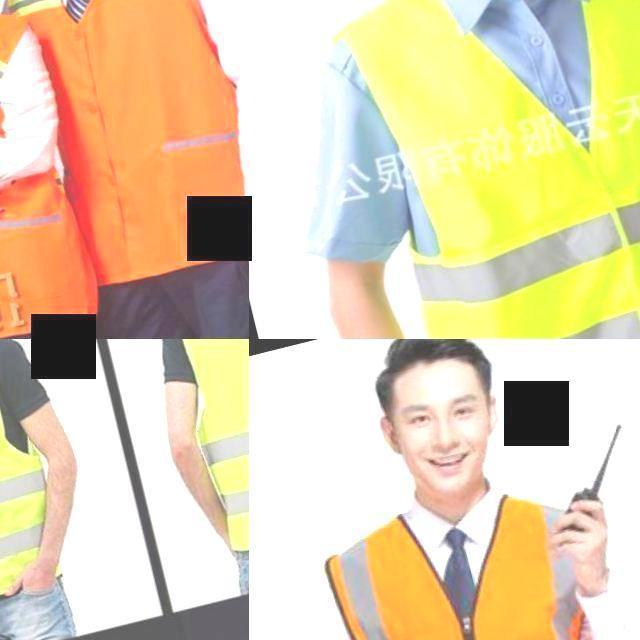vest: (327, 0, 640, 339), (2, 0, 249, 273), (319, 481, 640, 640), (0, 22, 87, 339), (0, 339, 64, 612), (174, 339, 249, 554)
